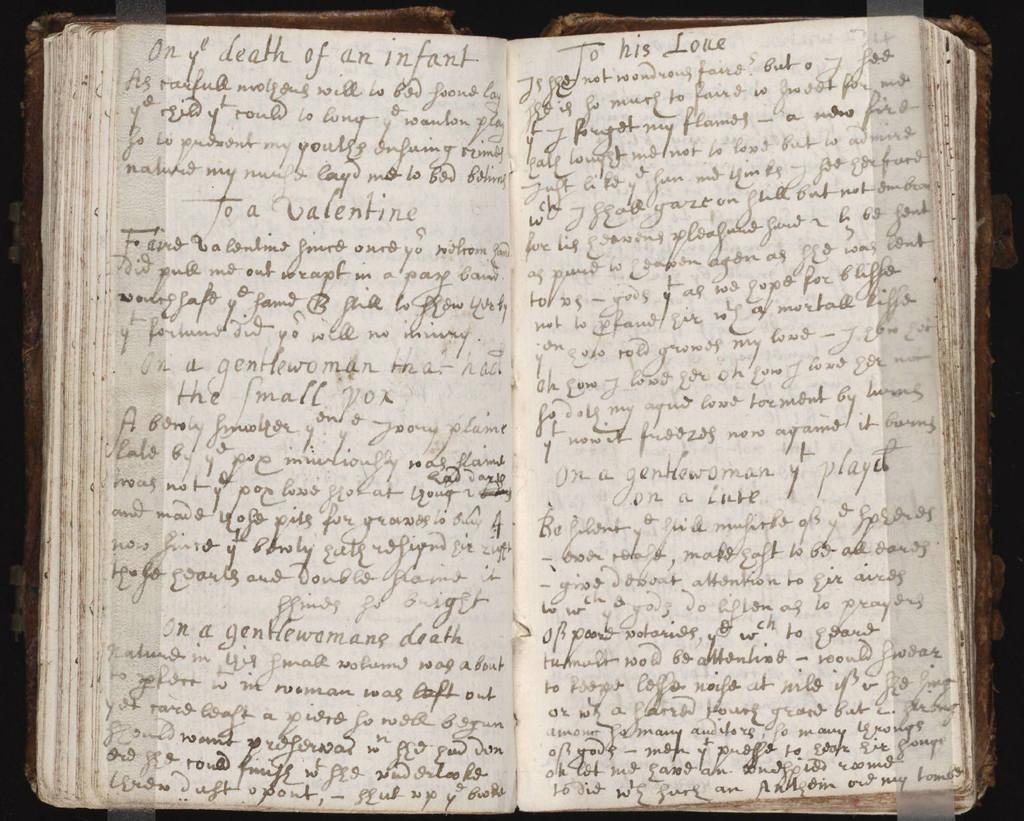book: (18, 5, 999, 820)
